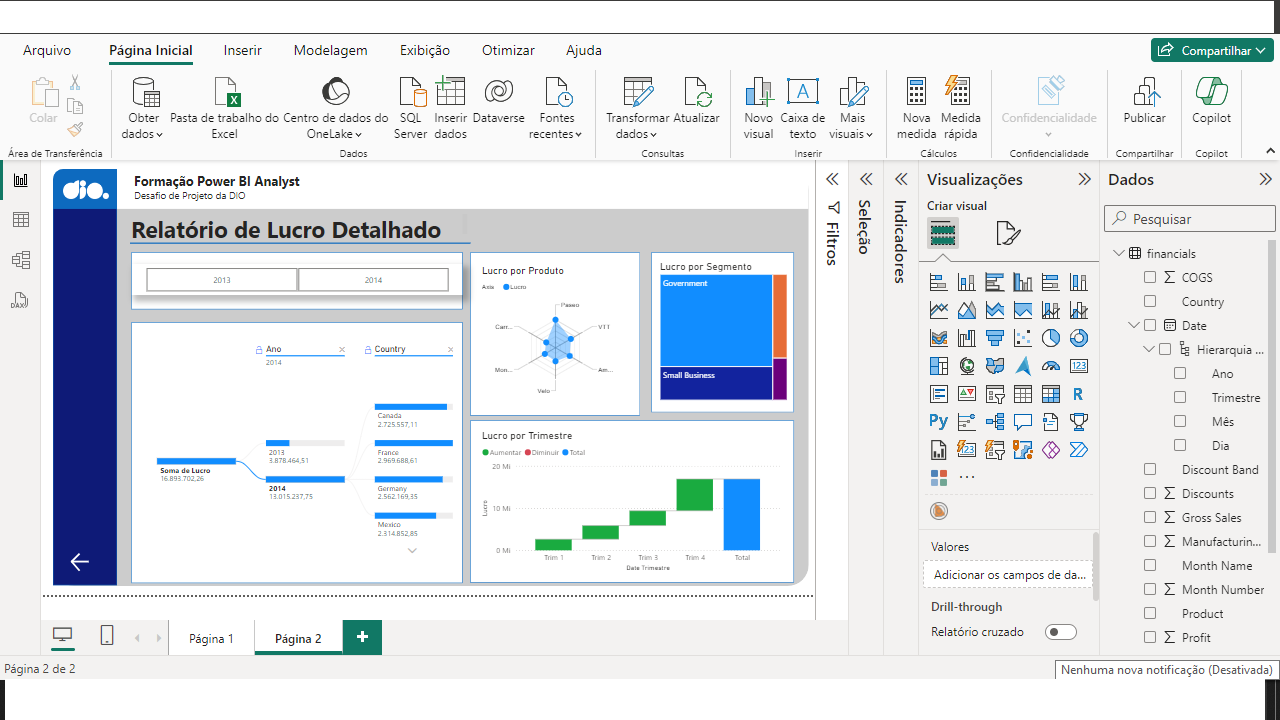

This screenshot's page, from the dashboard's own definition file:
{"tool":"powerbi","page":{"name":"Página 2","canvas":[1280,720],"ordinal":1},"visuals":[{"type":"shape","box":[20.2,14.4,1249.9,689.8],"z":0},{"type":"shape","box":[146.1,134,562.9,7.2],"z":0,"group":"g1"},{"type":"textbox","box":[143.6,84.3,566.5,50.2],"z":1000,"group":"g1"},{"type":"shape","box":[20.2,20.2,105.8,683.7],"z":1000},{"type":"shape","box":[19.7,14.3,105.8,66.3],"z":2000},{"type":"image","title":"logo_dio","box":[31.7,15.8,86.4,64.8],"z":3000},{"type":"shape","box":[125.5,14.3,1143.8,66.3],"z":4000},{"type":"textbox","box":[148.8,14.3,299.4,64.5],"z":5000},{"type":"group","id":"g1","title":"Título do relatório","box":[143.6,84.3,566.5,56.9],"z":6000},{"type":"shape","box":[148.8,152.4,548.6,95],"z":7000},{"type":"shape","box":[148.8,267.1,548.6,432],"z":8000},{"type":"shape","box":[709.9,152.4,281.5,270.7],"z":9000},{"type":"shape","box":[1009.3,152.4,236.6,265.3],"z":10000},{"type":"shape","box":[709.9,430.3,536,268.9],"z":11000},{"type":"actionButton","box":[44.6,645.1,63.4,40.3],"z":12000},{"type":"slicer","fields":{"Values":["financials.Date.Variation.Hierarquia de datas.Ano"]},"box":[148.8,172.7,549.2,52.1],"z":13000},{"type":"decompositionTreeVisual","fields":{"Analyze":["Sum(financials.Profit)"],"ExplainBy":["financials.Date.Variation.Hierarquia de datas.Ano","financials.Country"]},"box":[162.2,287.3,523.9,398.9],"z":14000},{"type":"RadarChart1446119667547","fields":{"Y":["Sum(financials.Profit)"],"Category":["financials.Product"]},"box":[724.8,171.2,253,230.7],"z":14001},{"type":"treemap","fields":{"Values":["Sum(financials.Profit)"],"Group":["financials.Segment"]},"box":[1018,165.2,220.3,236.7],"z":14002},{"type":"waterfallChart","fields":{"Y":["Sum(financials.Profit)"],"Category":["financials.Date.Variation.Hierarquia de datas.Trimestre"]},"box":[724.8,445,503.1,239.6],"z":14003}]}

Visuals, with their boxes on the page's 1280x720 design canvas (x1, y1, x2, y2). These are canvas units, not pixel positions in the 1280x720 screenshot, which may show the page scaled, cropped or inside an application window:
shape: {"left": 20, "top": 14, "right": 1270, "bottom": 704}
shape: {"left": 146, "top": 134, "right": 709, "bottom": 141}
textbox: {"left": 144, "top": 84, "right": 710, "bottom": 134}
shape: {"left": 20, "top": 20, "right": 126, "bottom": 704}
shape: {"left": 20, "top": 14, "right": 126, "bottom": 81}
"logo_dio" image: {"left": 32, "top": 16, "right": 118, "bottom": 81}
shape: {"left": 126, "top": 14, "right": 1269, "bottom": 81}
textbox: {"left": 149, "top": 14, "right": 448, "bottom": 79}
"Título do relatório" group: {"left": 144, "top": 84, "right": 710, "bottom": 141}
shape: {"left": 149, "top": 152, "right": 697, "bottom": 247}
shape: {"left": 149, "top": 267, "right": 697, "bottom": 699}
shape: {"left": 710, "top": 152, "right": 991, "bottom": 423}
shape: {"left": 1009, "top": 152, "right": 1246, "bottom": 418}
shape: {"left": 710, "top": 430, "right": 1246, "bottom": 699}
actionButton: {"left": 45, "top": 645, "right": 108, "bottom": 685}
slicer - financials.Date.Variation.Hierarquia de datas.Ano: {"left": 149, "top": 173, "right": 698, "bottom": 225}
decompositionTreeVisual - Sum(financials.Profit) x financials.Date.Variation.Hierarquia de datas.Ano: {"left": 162, "top": 287, "right": 686, "bottom": 686}
RadarChart1446119667547 - Sum(financials.Profit) x financials.Product: {"left": 725, "top": 171, "right": 978, "bottom": 402}
treemap - Sum(financials.Profit) x financials.Segment: {"left": 1018, "top": 165, "right": 1238, "bottom": 402}
waterfallChart - Sum(financials.Profit) x financials.Date.Variation.Hierarquia de datas.Trimestre: {"left": 725, "top": 445, "right": 1228, "bottom": 685}
